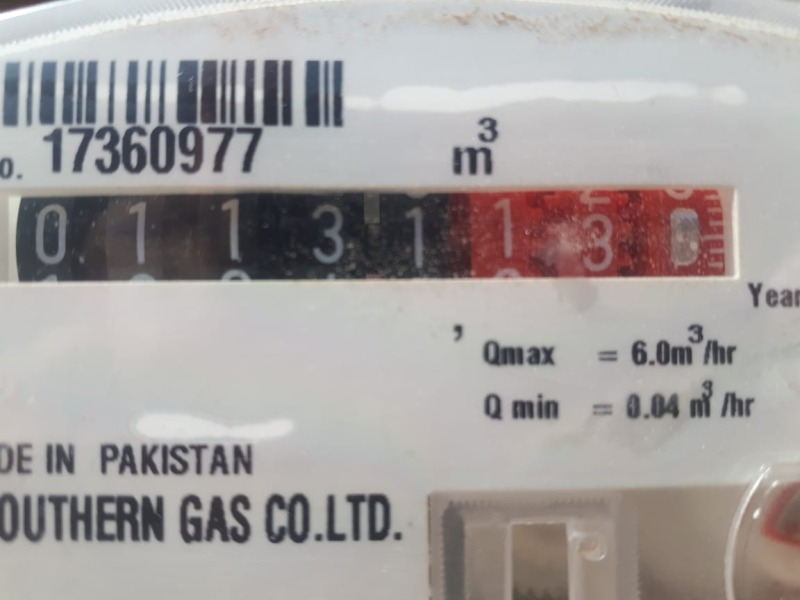ssgc: (7, 185, 740, 286)
